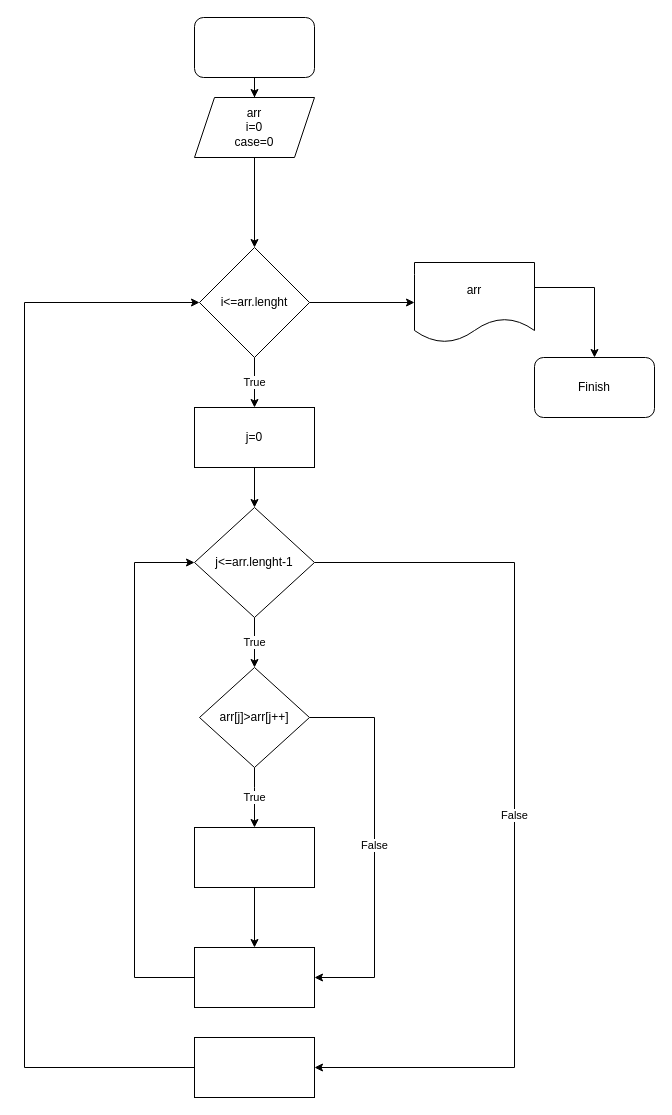
Some shapes in this 672 by 1115 pixel diagram are drawn without their labels. Here are the shapes that lost their labels. From the top down, the centre of each, then its label:
(254,47): Start
(254,857): case=arr[j] arr[j]=arr[j++] arr[j++]=case
(254,977): j++
(254,1067): i++
